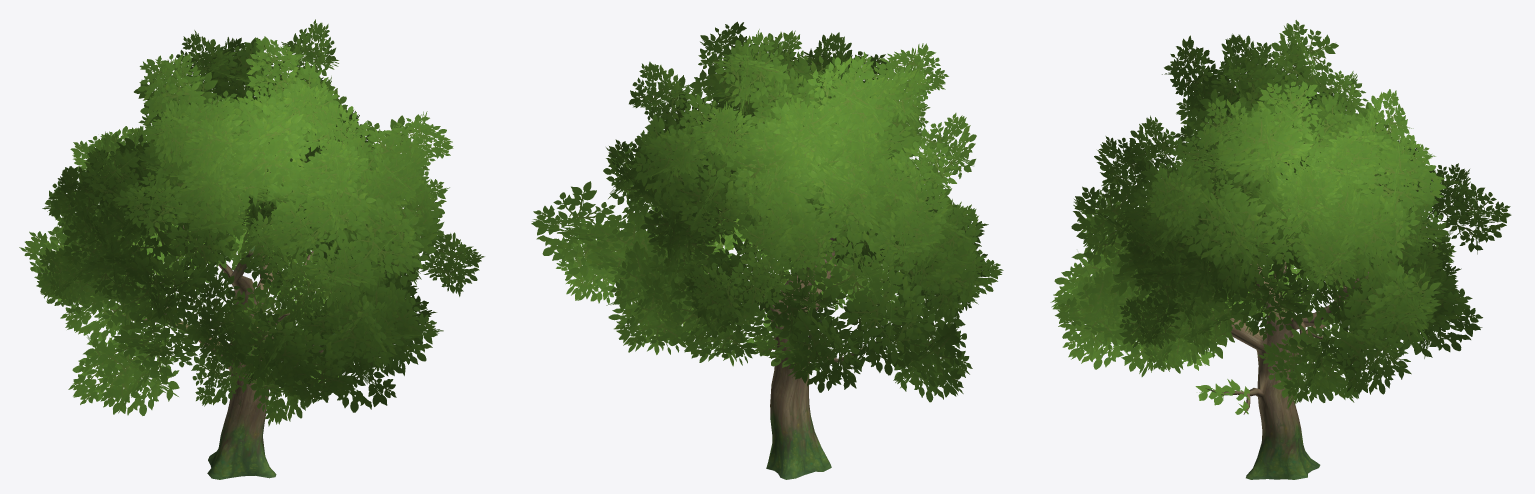
Rendered from Stages_AppleTree.fbx.
3 views of the same model, side by side, from view 1: azimuth 30°, elevation 25°; view 2: azimuth 150°, elevation 25°; view 3: azimuth 270°, elevation 25° (orthographic). The views are drawn at different scales.
Parts seen in each view (by area): view 1: Stages_AppleTree01leaf_Vo, Stages_AppleTree01bark_Vo; view 2: Stages_AppleTree01leaf_Vo, Stages_AppleTree01bark_Vo; view 3: Stages_AppleTree01leaf_Vo, Stages_AppleTree01bark_Vo.
Boxes of the visible parts, left/top/right/bottom form: Stages_AppleTree01leaf_Vo: left=19, top=19, right=484, bottom=426; Stages_AppleTree01bark_Vo: left=111, top=225, right=350, bottom=479; Stages_AppleTree01leaf_Vo: left=531, top=21, right=1003, bottom=402; Stages_AppleTree01bark_Vo: left=705, top=225, right=862, bottom=479; Stages_AppleTree01leaf_Vo: left=1050, top=20, right=1511, bottom=414; Stages_AppleTree01bark_Vo: left=1205, top=262, right=1368, bottom=479.
Size of the model in its own units: 9.24 by 9.48 by 9.8.
Materials: 2 (2 with a texture image).
